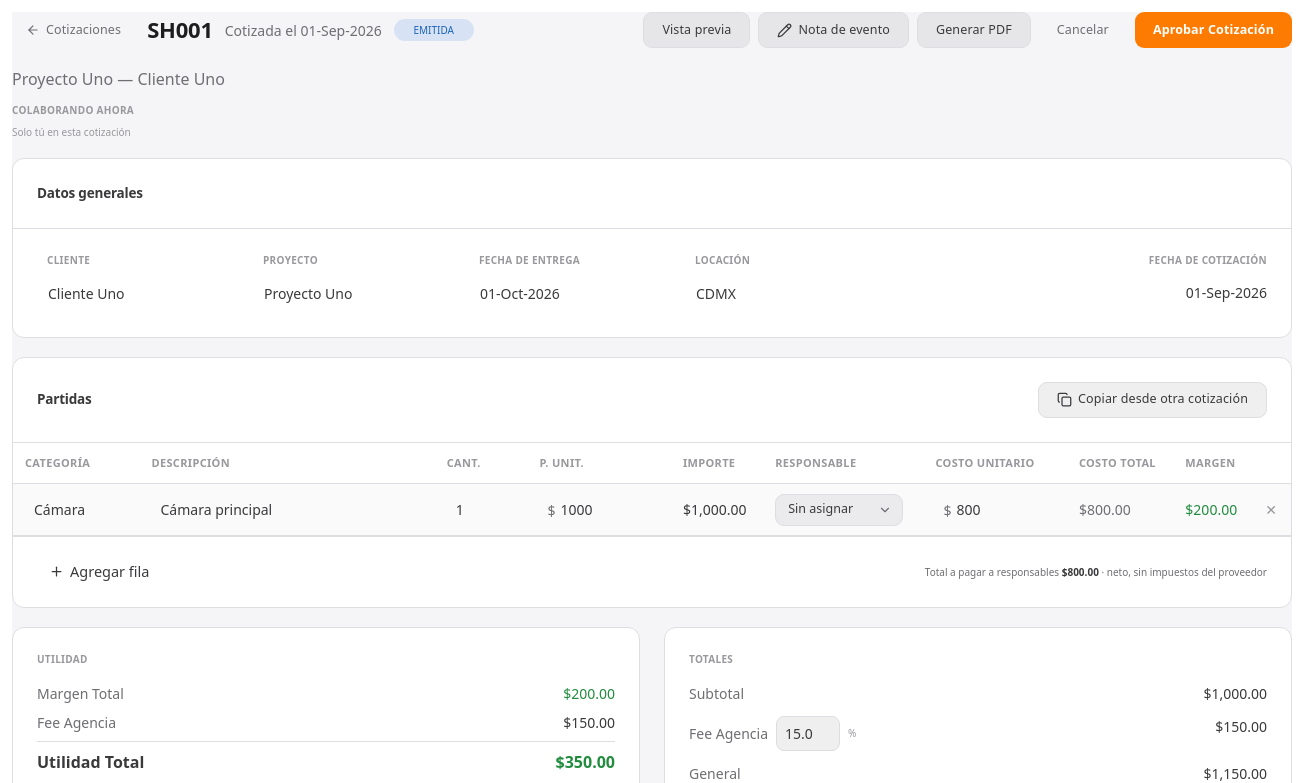
Test: page.tsx -- conflicto atómico multi-campo del autofill de producto (3D-5) › el grupo se rechaza completo (ningún campo a medias), "usar" revierte los 4 campos al valor del servidor
The width and height of the screenshot is (1304, 783).
Replace the text in the 5th field named "items.0.descripcion" with "Producto". click: (280, 510)
box: [152,492,408,527]
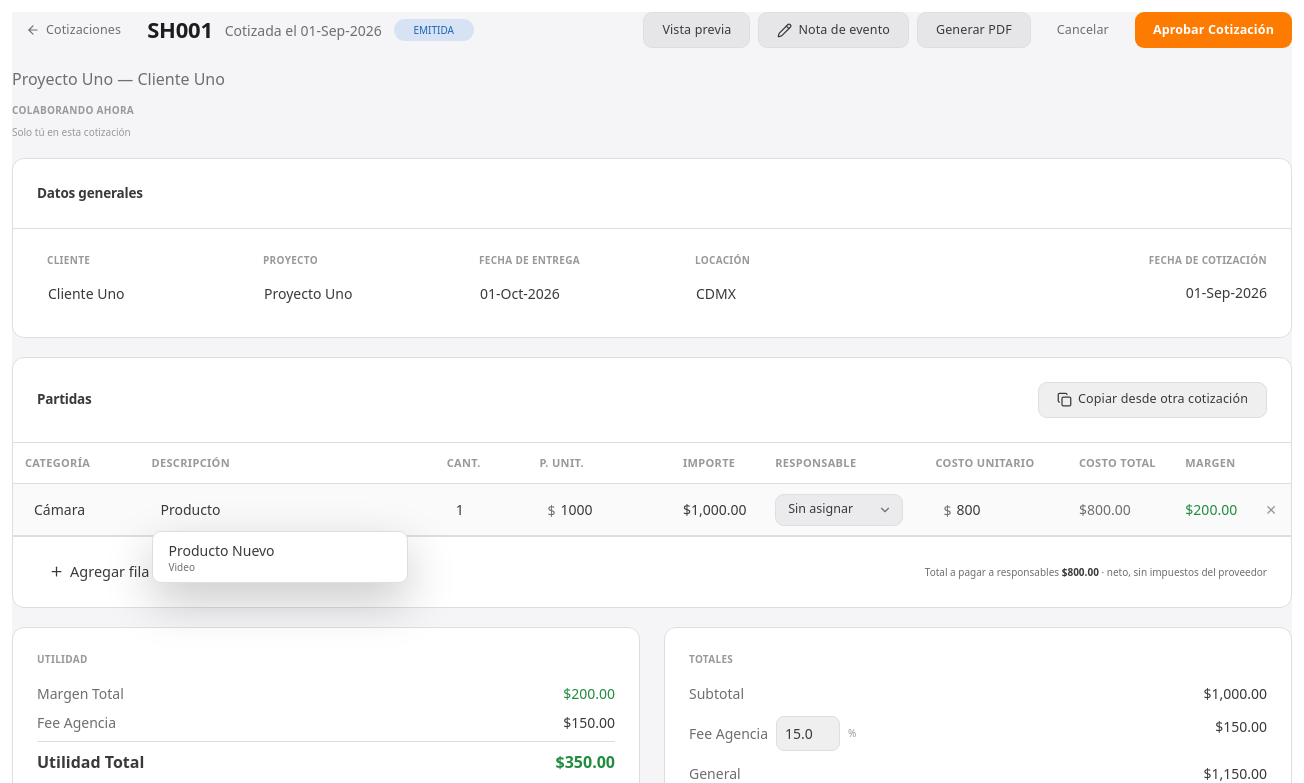
Press the mouse on the text "Producto Nuevo" at (222, 551), box [168,541,275,560]
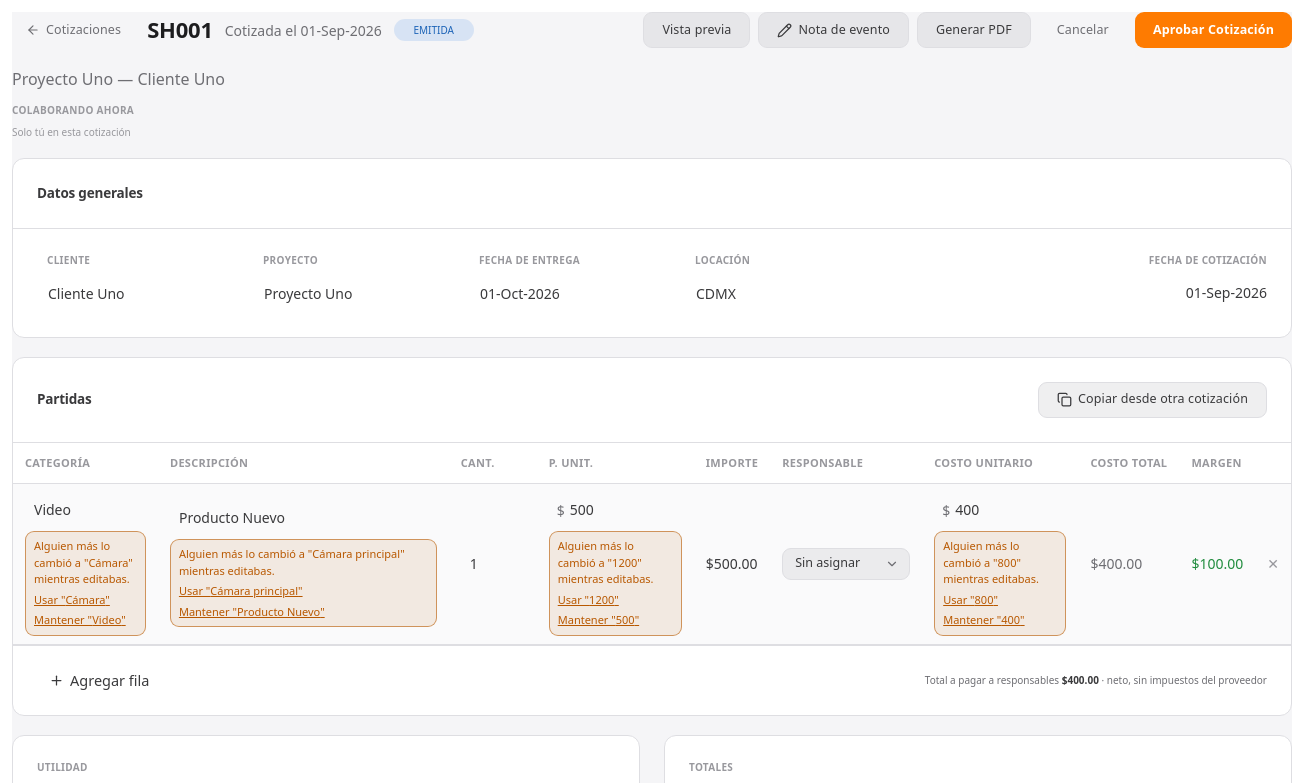
Result: the button "Usar \"Cámara principal\"" is shown at [179,583,303,600]
Result: the button "Usar \"Cámara\"" is shown at [34,592,110,608]
Result: the button "Usar \"1200\"" is shown
Click the button "Usar \"1200\"". click: click(588, 600)
box: [558,592,619,608]
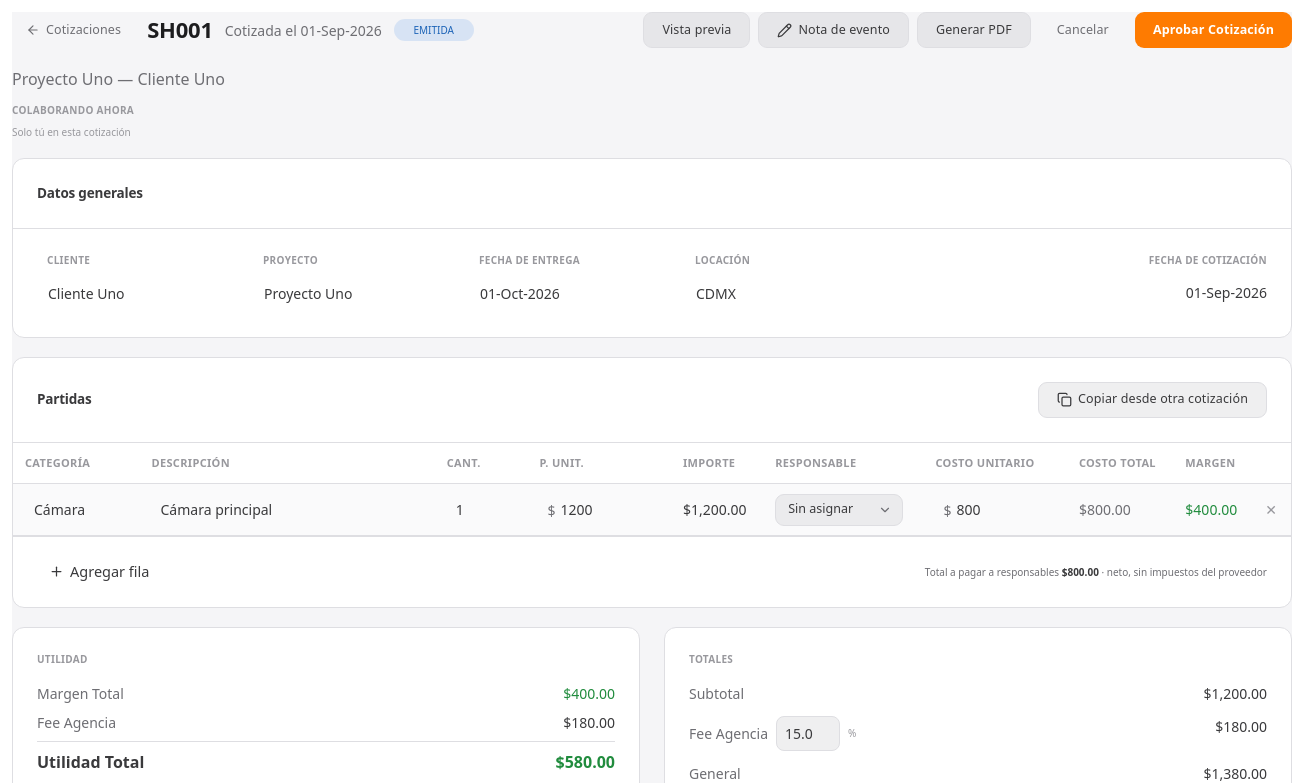
Result: the 5th field named "items.0.descripcion" holds "Cámara principal" at [152,492,408,527]
Result: the 4th field named "items.0.categoria" holds "Cámara" at [25,492,121,527]
Result: the 2nd number field named "items.0.precio_unitario" holds "1200" at [540,492,652,527]
